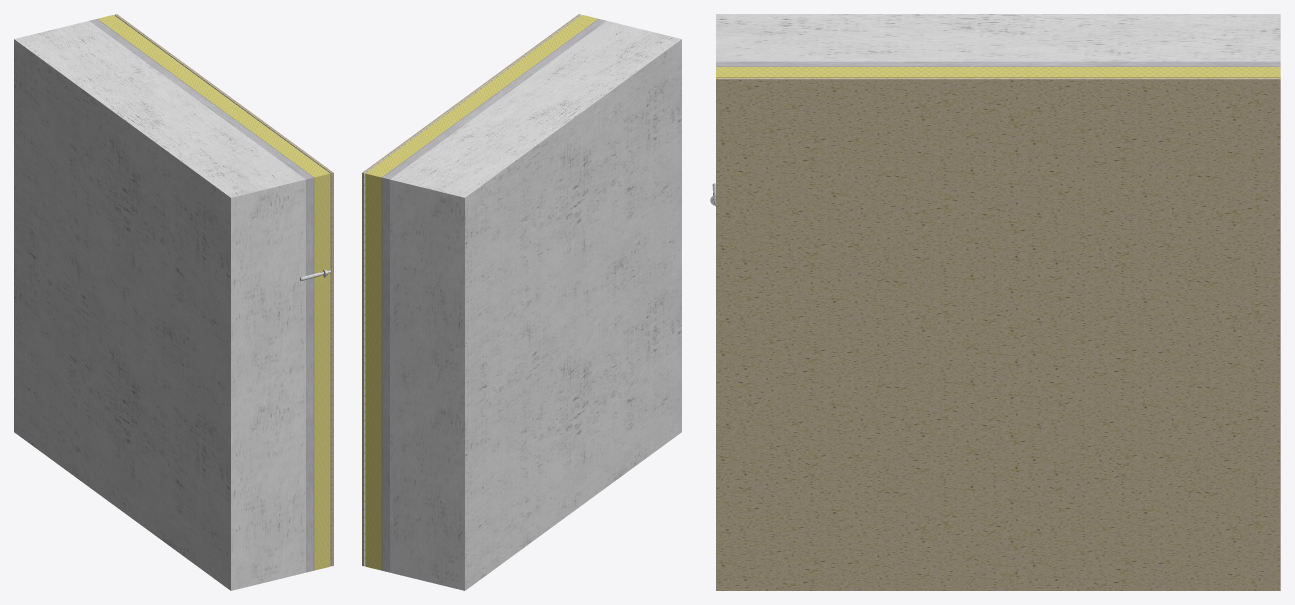
Rendered from rockwool-insulation.glb.
The picture shows the model from 3 angles, left to right: view 1: azimuth 30°, elevation 25°; view 2: azimuth 150°, elevation 25°; view 3: azimuth 270°, elevation 25°; orthographic projection. The views are drawn at different scales.
Parts seen in each view (by area): view 1: 基层墙体, 粘贴43厚度岩棉防火保温板, 20厚1：3水泥砂浆找平层, 柔性耐水腻子，刷外墙涂料, 5厚抹面胶浆，内置160级耐碱玻纤网格布, 2厚聚合物水泥防水涂料; view 2: 基层墙体, 粘贴43厚度岩棉防火保温板, 20厚1：3水泥砂浆找平层, 柔性耐水腻子，刷外墙涂料, 5厚抹面胶浆，内置160级耐碱玻纤网格布, 2厚聚合物水泥防水涂料; view 3: 柔性耐水腻子，刷外墙涂料, 基层墙体, 粘贴43厚度岩棉防火保温板, 20厚1：3水泥砂浆找平层.
Boxes of the visible parts, x1,y1,x2,y2 form: 基层墙体: (14, 21, 305, 590); 粘贴43厚度岩棉防火保温板: (98, 15, 330, 570); 20厚1：3水泥砂浆找平层: (89, 19, 313, 572); 柔性耐水腻子，刷外墙涂料: (115, 14, 333, 566); 5厚抹面胶浆，内置160级耐碱玻纤网格布: (114, 14, 331, 566); 2厚聚合物水泥防水涂料: (97, 19, 314, 570); 基层墙体: (390, 21, 681, 590); 粘贴43厚度岩棉防火保温板: (365, 15, 597, 570); 20厚1：3水泥砂浆找平层: (382, 19, 606, 572); 柔性耐水腻子，刷外墙涂料: (362, 14, 580, 566); 5厚抹面胶浆，内置160级耐碱玻纤网格布: (364, 14, 581, 566); 2厚聚合物水泥防水涂料: (381, 19, 598, 570); 柔性耐水腻子，刷外墙涂料: (716, 78, 1280, 590); 基层墙体: (716, 14, 1280, 61); 粘贴43厚度岩棉防火保温板: (716, 67, 1280, 77); 20厚1：3水泥砂浆找平层: (716, 61, 1280, 66).
Size of the model in its own units: 0.274 by 1 by 1.01.
Materials: 9 (5 with a texture image).
